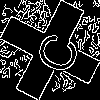C: (25, 25, 82, 78)
